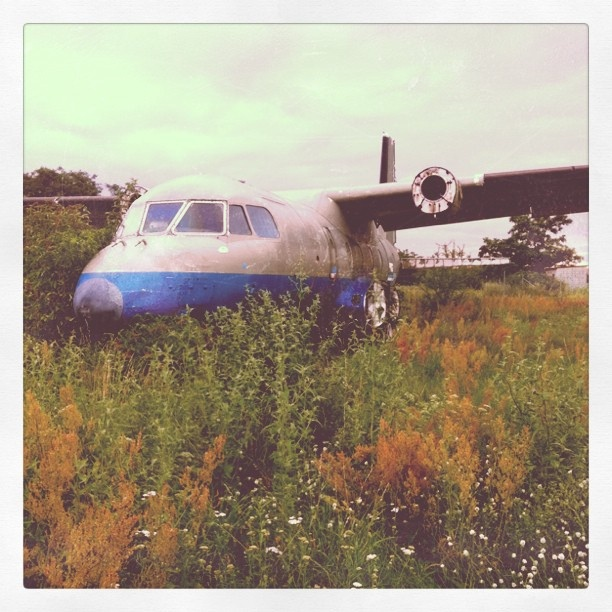airplane: (25, 164, 609, 491)
